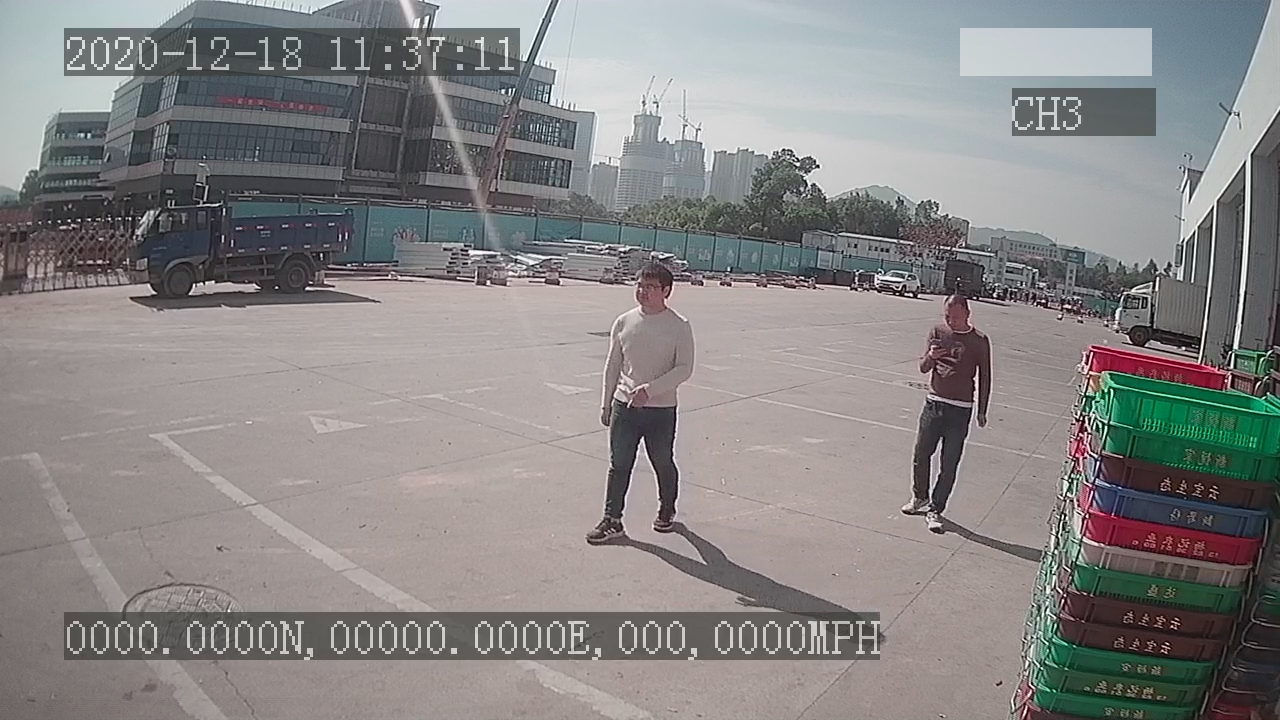person: (588, 262, 702, 548), (900, 293, 996, 539)
